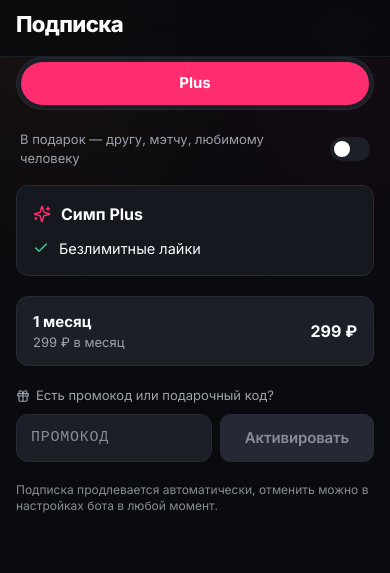
Test: Plans: одно поле на промокод и подарочный код › содержательный отказ подарка показывает текст сервера
The image size is (390, 573).
In the field with placeholder "ПРОМОКОД": [114, 438] box [16,414,212,462], type "AURA2345"
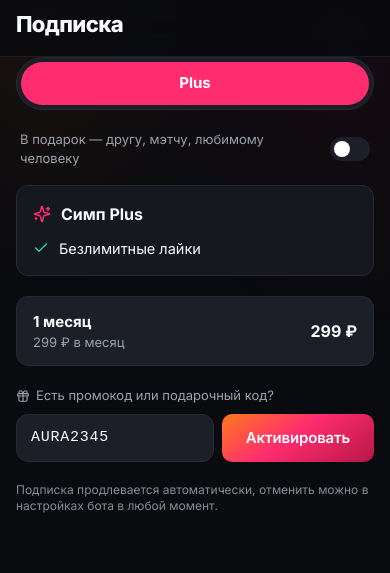
Click the button "Активировать": [298, 438] box [222,414,374,462]
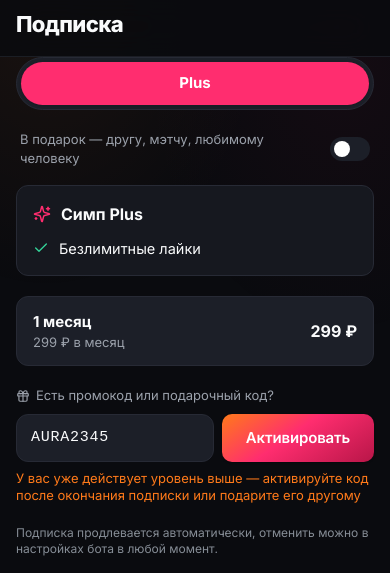
Check: the text "уровень выше" is shown, box [16,470,368,503]
